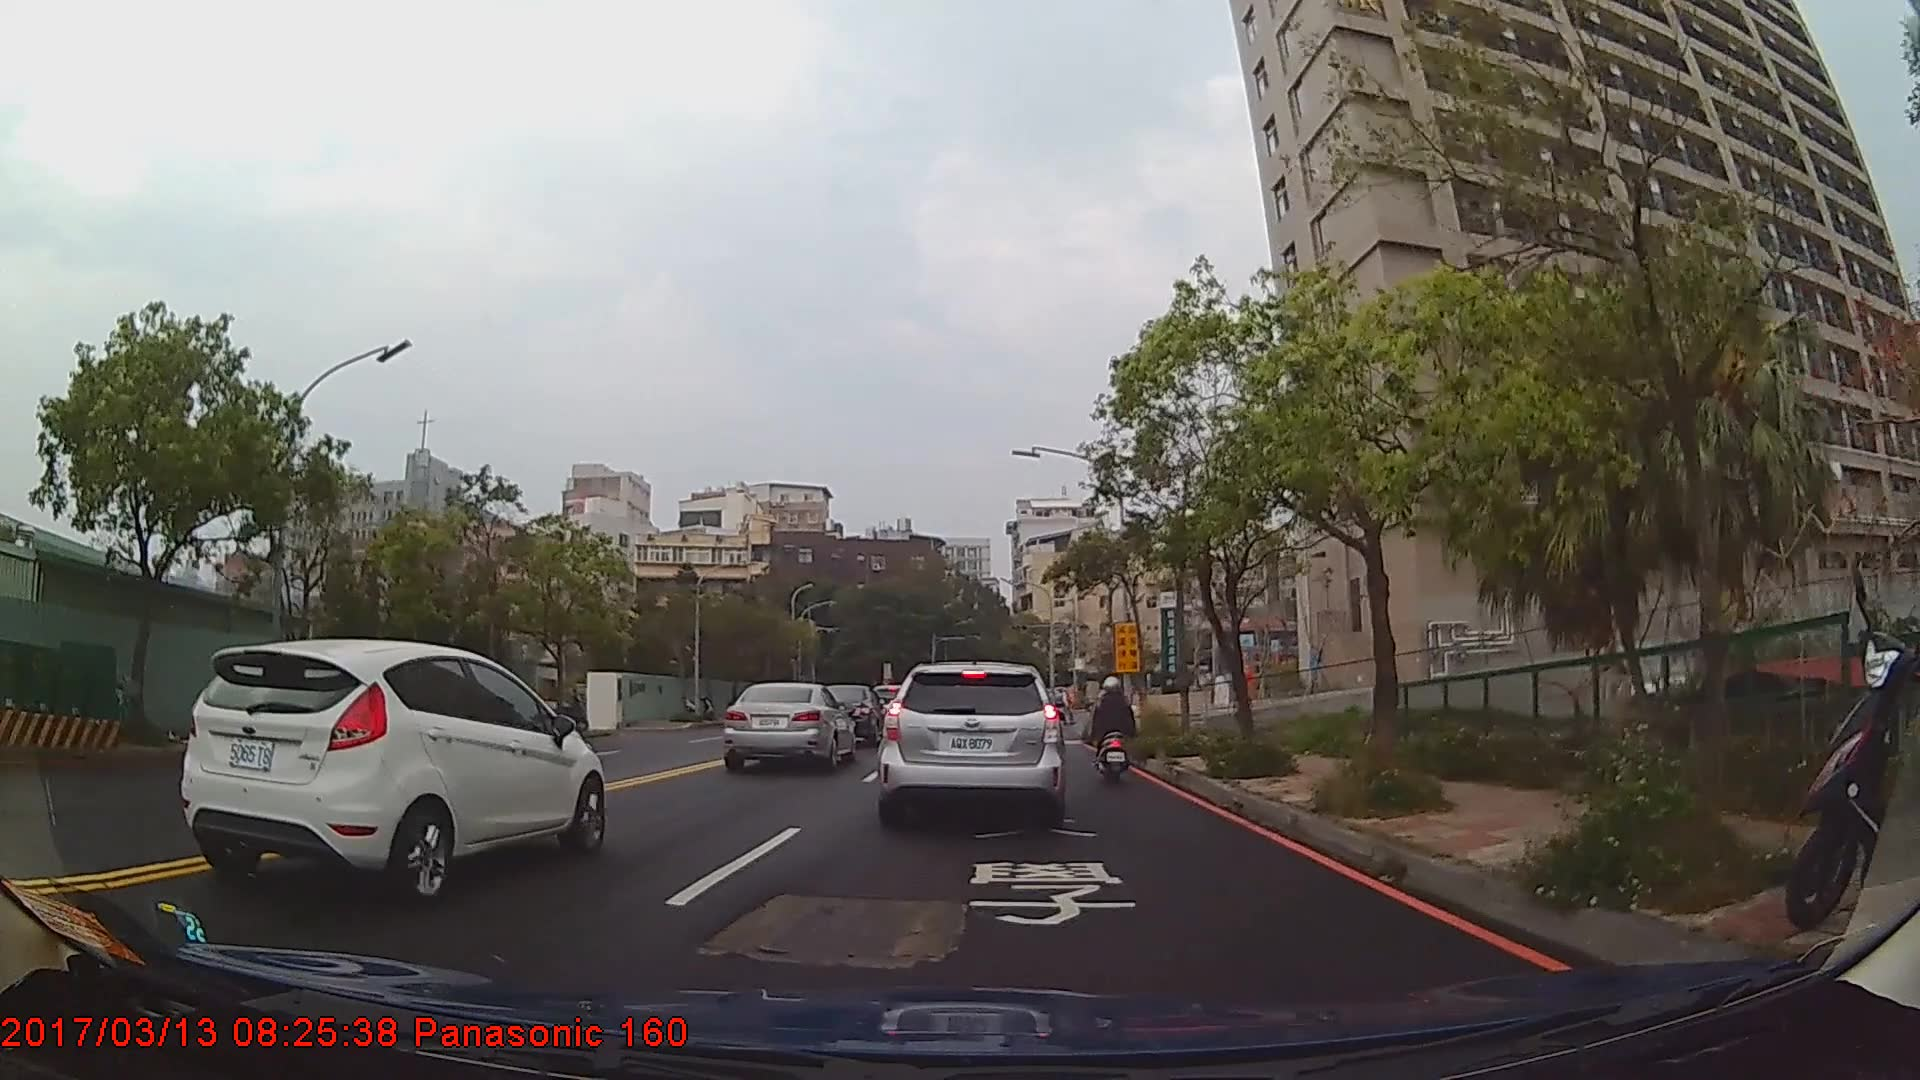rider: (1090, 674, 1137, 786)
vehicle: (178, 635, 606, 908), (878, 660, 1064, 825), (723, 680, 855, 773), (813, 682, 884, 745)
